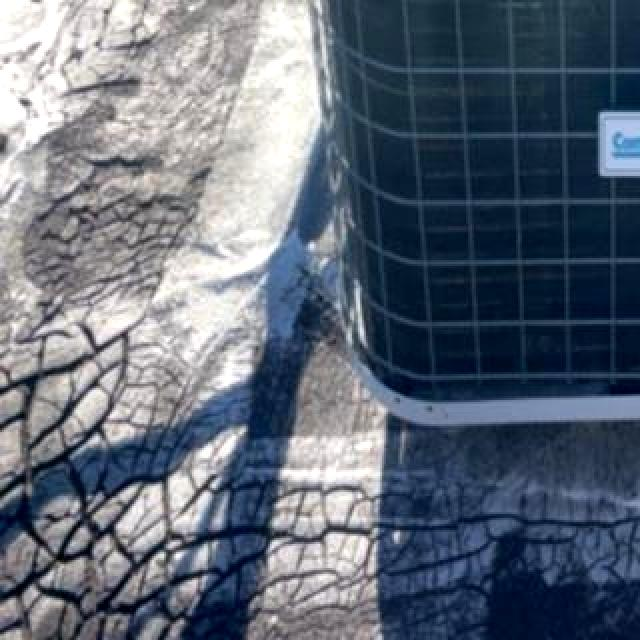SPLIT-SYSTEM: (248, 0, 640, 436)
